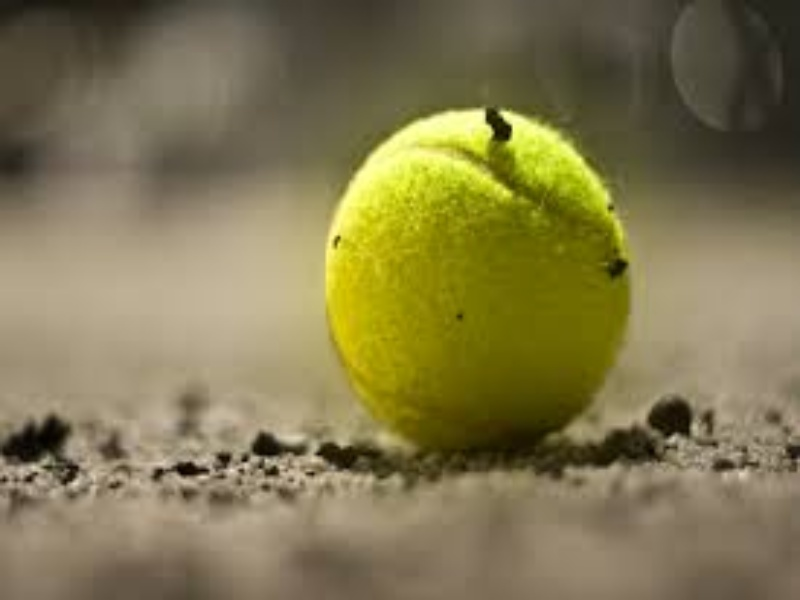tennis ball: (304, 98, 659, 452)
